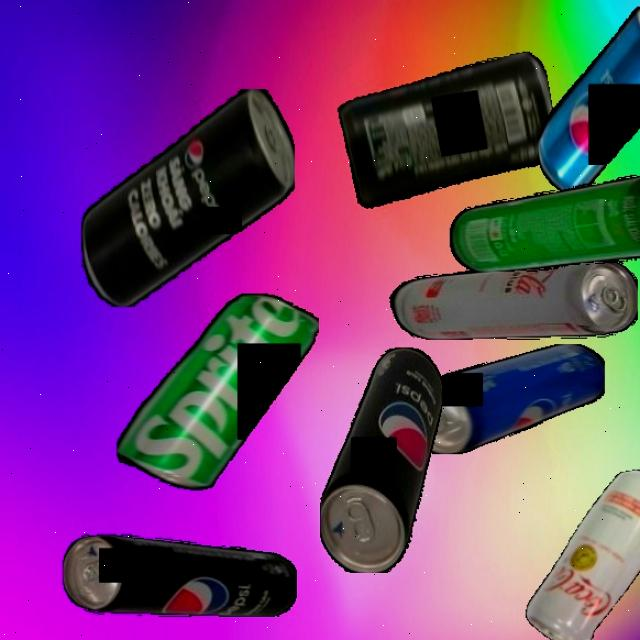debris: (80, 88, 295, 307), (115, 294, 319, 491), (334, 50, 564, 211), (319, 346, 442, 573), (504, 465, 640, 640), (403, 343, 604, 454), (386, 259, 638, 340), (63, 533, 297, 617), (536, 5, 640, 194), (448, 174, 640, 271)
